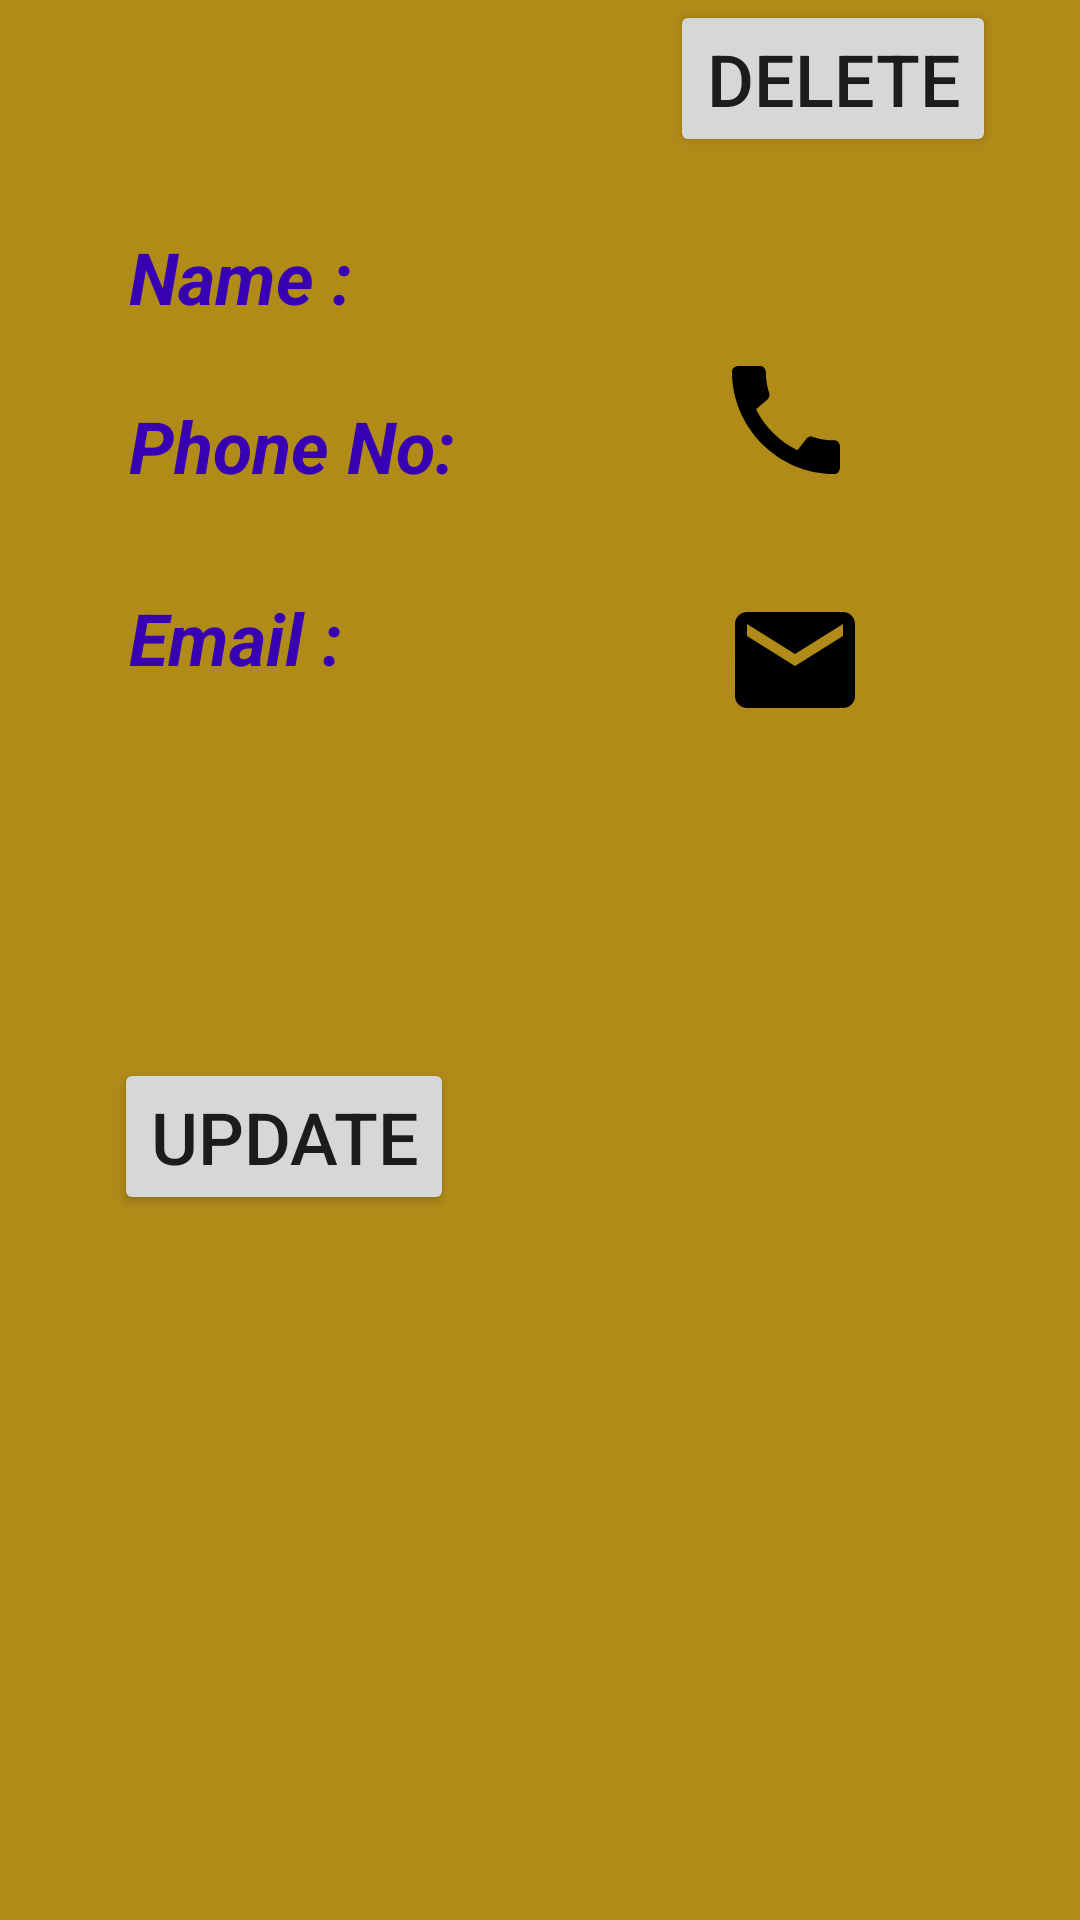

Icon bounding boxes for this 1080px×1920px phone screenshot, format (x1, y1, x2, y2):
call: (732, 366, 840, 474)
email: (735, 612, 855, 708)
